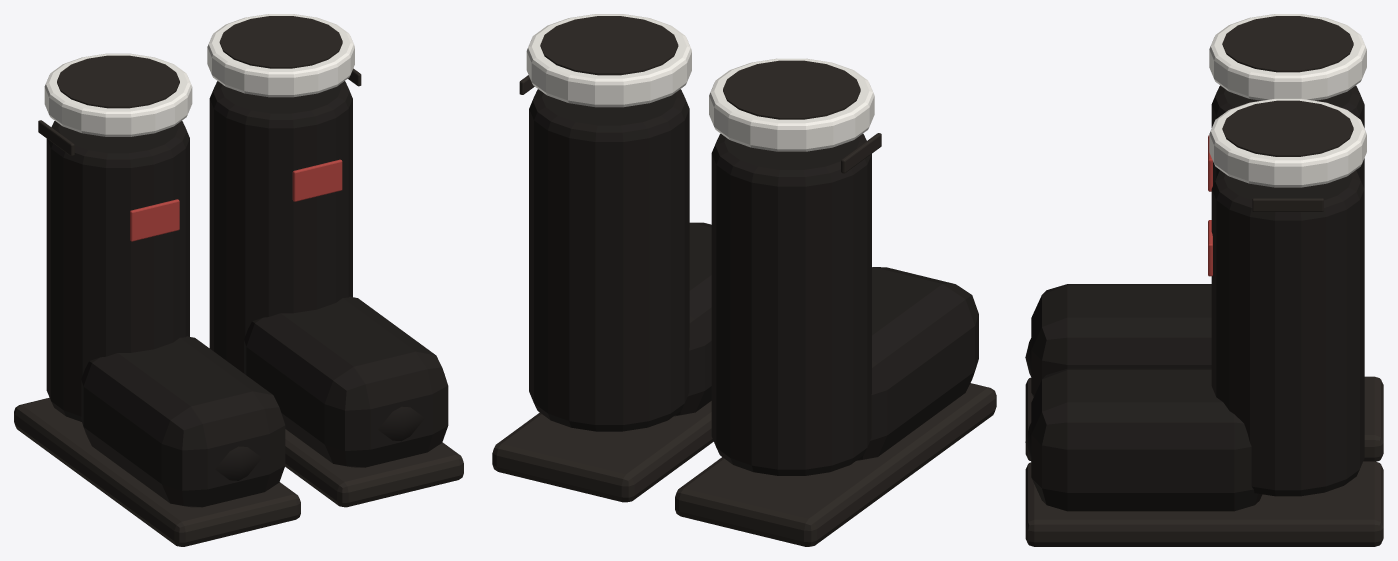
The model's file is hh_cat_wellies.glb.
The picture shows the model from 3 angles, left to right: view 1: azimuth 30°, elevation 25°; view 2: azimuth 150°, elevation 25°; view 3: azimuth 270°, elevation 25°; orthographic projection. The views are drawn at different scales.
Parts seen in each view (by area): view 1: boot_shaft, boot_shaft.001, boot_foot, boot_foot.001, sole, sole.001, rim, rim.001, boot_opening, boot_opening.001, badge.001, badge (+3 smaller); view 2: boot_shaft.001, boot_shaft, sole, boot_foot, sole.001, rim, rim.001, boot_opening, boot_opening.001, boot_foot.001, pull_tab; view 3: boot_shaft.001, boot_foot.001, sole.001, boot_foot, rim.001, boot_opening.001, boot_opening, rim, sole, boot_shaft, pull_tab.001.
Part boxes in pixels (x1,y1,x2,y2): boot_shaft: (46, 121, 189, 421); boot_shaft.001: (209, 81, 352, 373); boot_foot: (81, 336, 285, 507); boot_foot.001: (244, 296, 448, 467); sole: (14, 397, 300, 546); sole.001: (285, 429, 463, 507); rim: (44, 53, 192, 136); rim.001: (207, 14, 354, 97); boot_opening: (57, 55, 179, 108); boot_opening.001: (219, 16, 342, 68); badge.001: (292, 159, 342, 201); badge: (130, 199, 179, 241); boot_shaft.001: (529, 89, 689, 431); boot_shaft: (711, 133, 871, 475); sole: (675, 383, 996, 546); boot_foot: (856, 267, 978, 460); sole.001: (492, 401, 713, 502); rim: (709, 58, 874, 151); rim.001: (526, 14, 691, 107); boot_opening: (723, 60, 860, 119); boot_opening.001: (540, 16, 678, 75); boot_foot.001: (674, 222, 711, 416); pull_tab: (841, 133, 881, 173); boot_shaft.001: (1211, 170, 1364, 496); boot_foot.001: (1031, 368, 1262, 511); sole.001: (1025, 461, 1383, 546); boot_foot: (1031, 284, 1211, 397); rim.001: (1209, 98, 1366, 187); boot_opening.001: (1222, 100, 1353, 156); boot_opening: (1222, 16, 1353, 72); rim: (1209, 14, 1366, 100); sole: (1025, 376, 1383, 461); boot_shaft: (1211, 85, 1364, 188); pull_tab.001: (1252, 198, 1323, 211).
Bounding box in the file's own units: 0.3 × 0.36 × 0.3.
